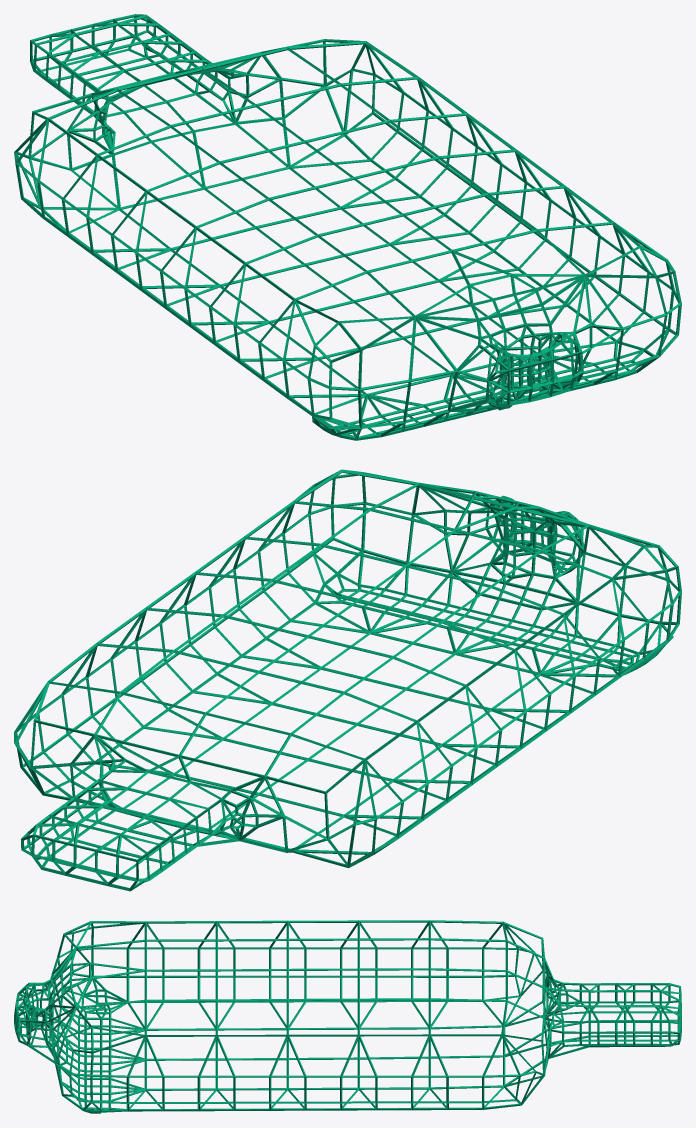
File: ToothPaste.glb
3 views of the same model, one above another, from view 1: azimuth 30°, elevation 25°; view 2: azimuth 150°, elevation 25°; view 3: azimuth 270°, elevation 25° (orthographic). The views are drawn at different scales.
Visible parts, largest first — view 1: Clipboard_V1_Object.002; view 2: Clipboard_V1_Object.002; view 3: Clipboard_V1_Object.002.
Boxes of the visible parts, box(x1,y1,x2,y2) form: Clipboard_V1_Object.002: box(14, 14, 681, 440); Clipboard_V1_Object.002: box(14, 469, 681, 891); Clipboard_V1_Object.002: box(14, 920, 681, 1113).
Size of the model in its own units: 2.42 by 0.8085 by 5.26.
